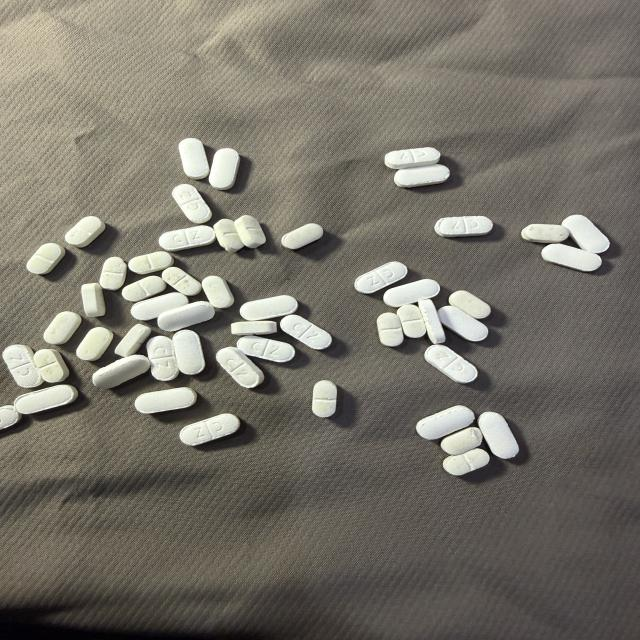pill: (425, 345, 477, 383), (216, 347, 264, 388), (180, 414, 240, 446), (417, 406, 474, 439), (93, 355, 150, 388), (14, 385, 78, 414), (478, 412, 518, 458), (562, 215, 609, 253), (438, 306, 488, 341), (280, 315, 331, 349), (3, 345, 42, 388), (158, 302, 215, 331), (355, 262, 407, 293), (135, 387, 197, 413), (131, 292, 188, 320), (542, 244, 601, 271), (383, 279, 439, 307), (237, 335, 295, 362), (172, 184, 211, 224), (240, 295, 298, 320), (147, 336, 179, 381), (173, 330, 205, 375), (159, 226, 215, 251), (394, 164, 449, 187), (209, 148, 239, 190), (65, 216, 105, 247), (179, 138, 209, 179), (77, 327, 113, 361), (418, 299, 445, 344), (385, 147, 440, 169), (435, 216, 492, 237), (443, 449, 489, 475), (34, 349, 69, 383), (115, 324, 151, 357), (44, 312, 81, 344), (27, 243, 65, 274), (449, 291, 491, 319), (441, 427, 482, 455), (122, 276, 166, 302), (162, 267, 201, 295), (281, 223, 323, 249), (202, 276, 234, 308), (235, 215, 266, 248), (214, 219, 244, 252), (129, 252, 173, 274), (397, 305, 426, 337), (312, 380, 337, 417), (522, 224, 569, 243), (99, 257, 126, 290), (377, 312, 403, 346), (82, 283, 105, 317), (231, 320, 277, 336), (0, 406, 21, 429)
